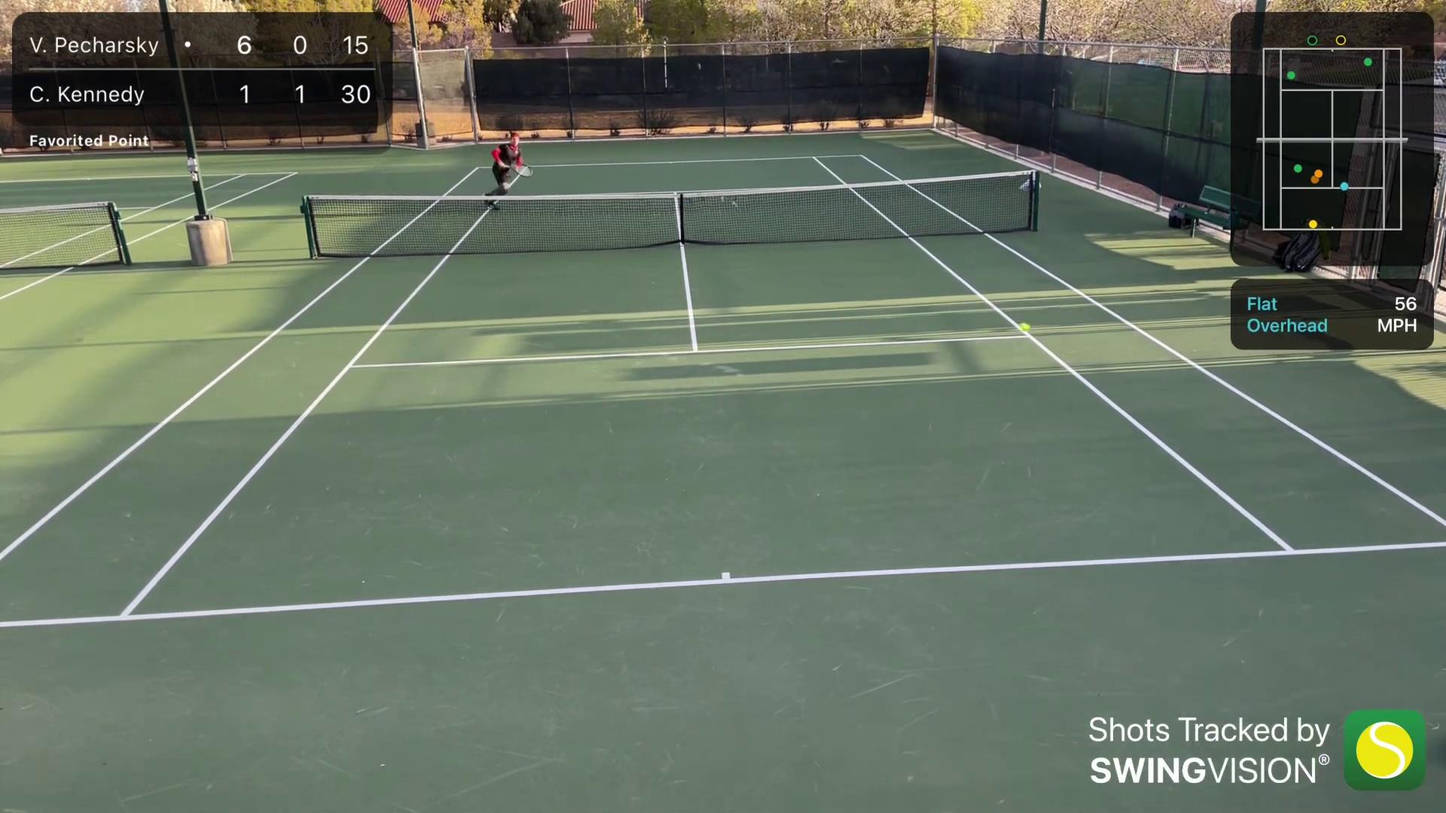ball: (1017, 318, 1035, 333)
